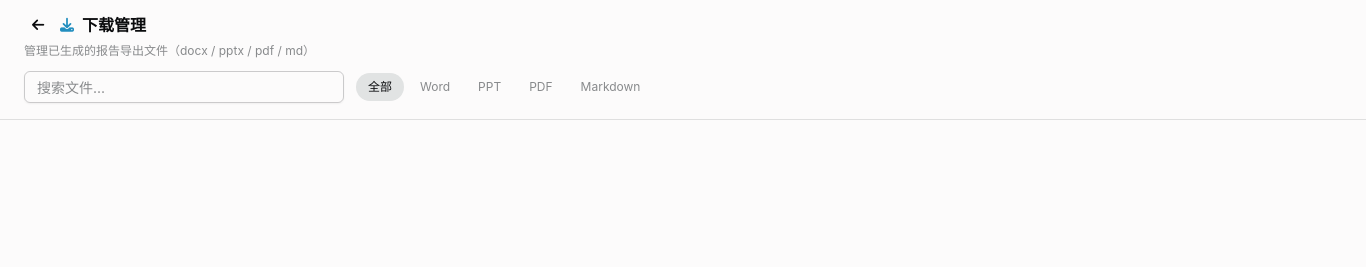
Scenario: 下载中心交互（add-download-center Task 3） › 搜索与类型筛选叠加生效
Click the button with test id "filter-tab-docx": (435, 87) [408,73,462,101]
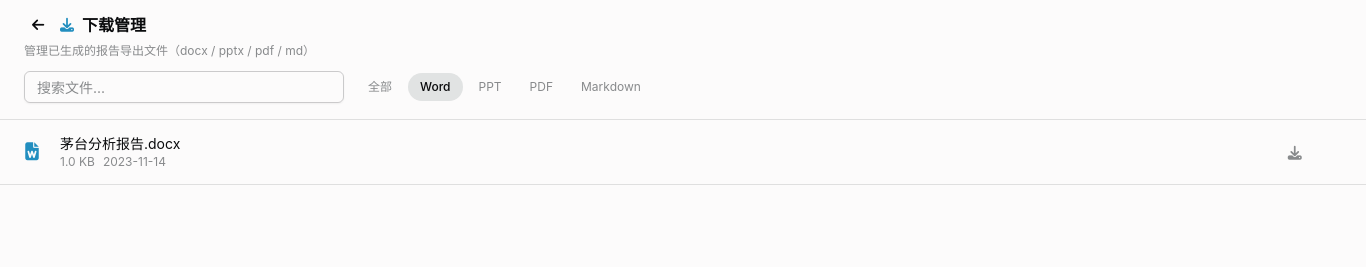
Expected: the number of list items with test id "download-row" is 1, [0,120,1365,185]
Click the button with test id "filter-tab-all": (380, 87) [356,73,404,101]
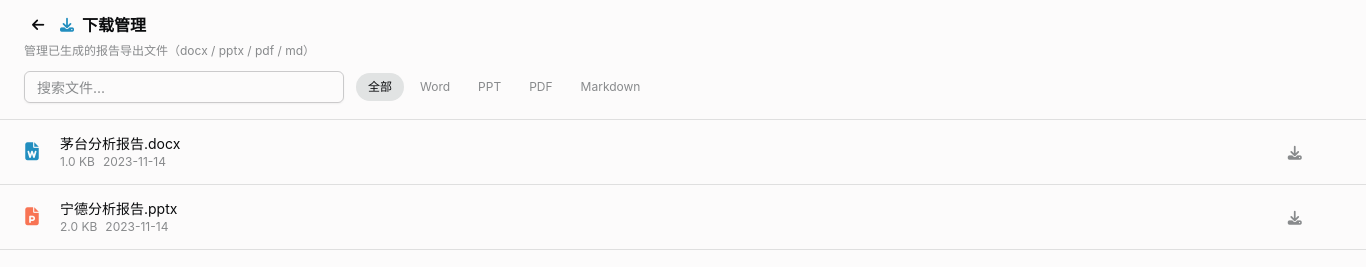
Expected: the number of list items with test id "download-row" is 2, [0,120,1365,185]; [0,185,1365,250]
In the field with test id "downloads-search": (184, 87) [24,71,344,103], type "宁德"
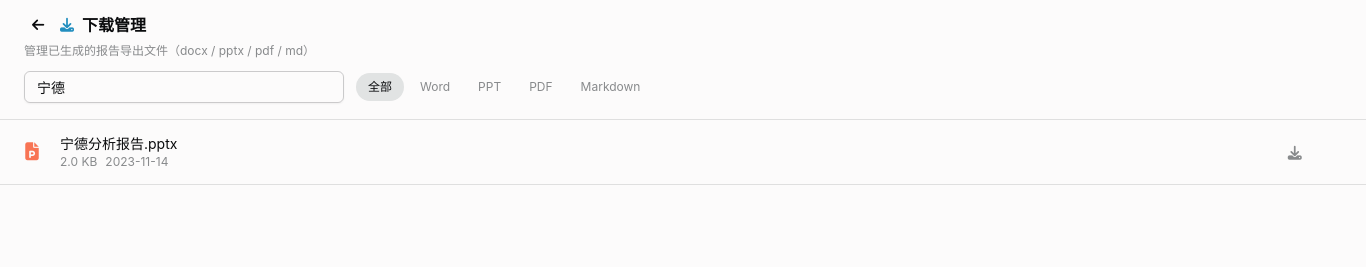
Expected: the number of list items with test id "download-row" is 1, [0,120,1365,185]
叠加：类型 PPT + 搜索「茅台」→ 空
Click the button with test id "filter-tab-pptx": (490, 87) [466,73,513,101]
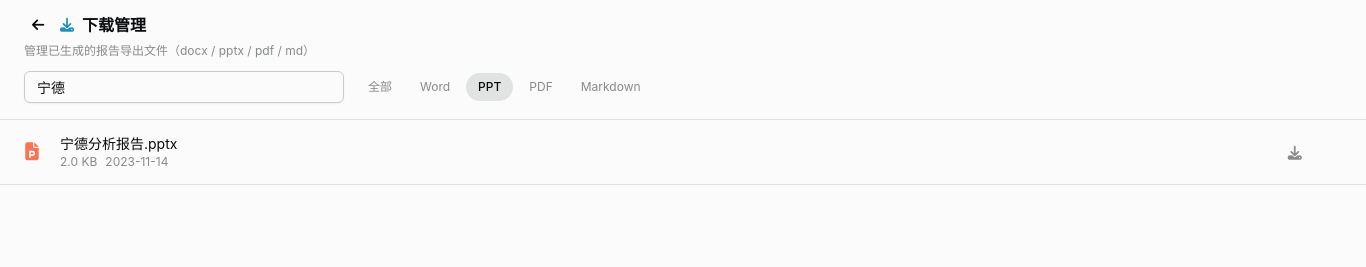
Replace the text in the field with test id "downloads-search" with "茅台": (184, 87) [24,71,344,103]
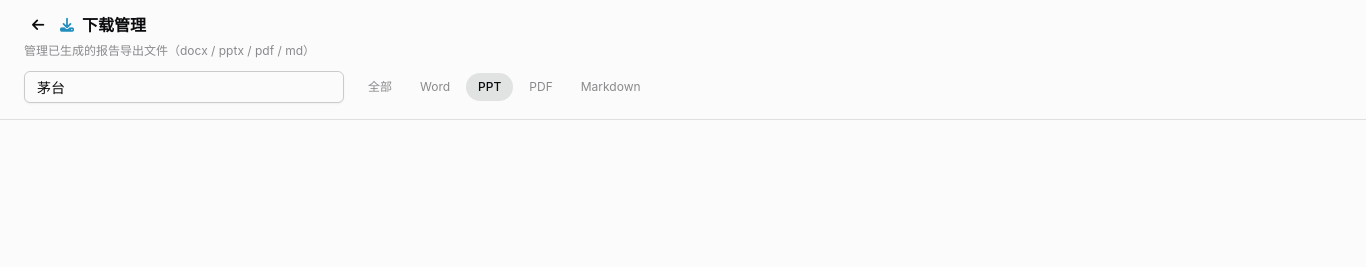
Expected: the list item with test id "download-row" is gone
